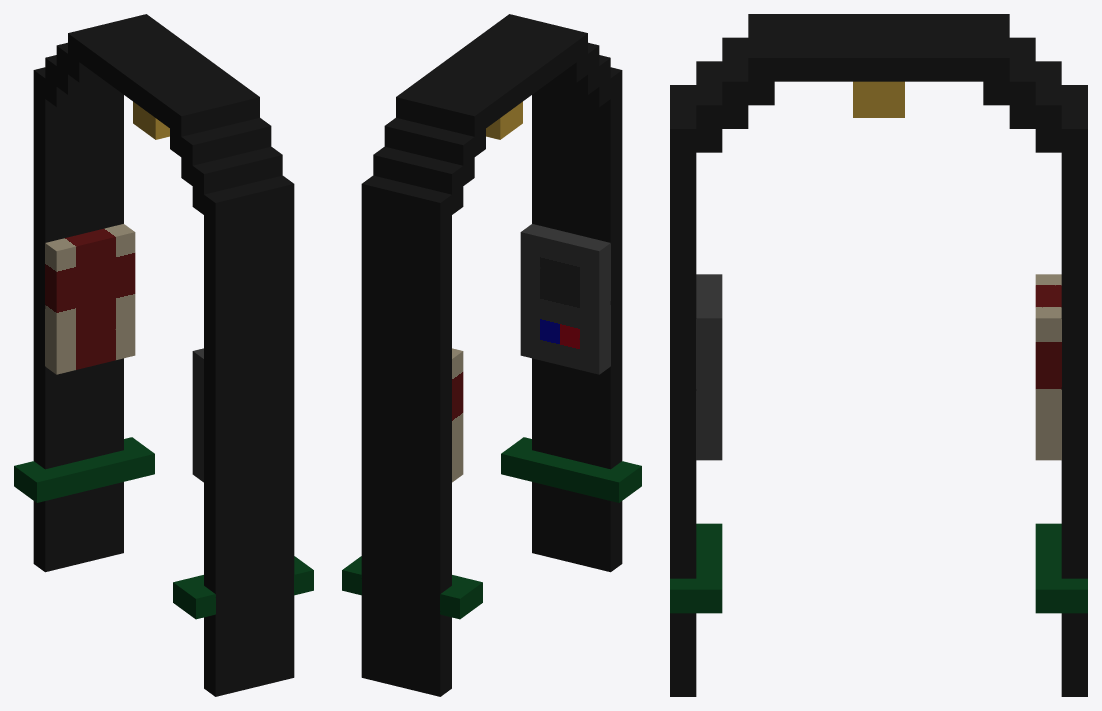
The model's file is ArchGreen.fbx.
3 renders of one model, left to right at view 1: azimuth 30°, elevation 25°; view 2: azimuth 150°, elevation 25°; view 3: azimuth 270°, elevation 25°, orthographic. The views are drawn at different scales.
Parts seen in each view (by area): view 1: Matrix; view 2: Matrix; view 3: Matrix.
Part boxes in pixels (bbox=[...]): Matrix: bbox=[14, 14, 313, 696]; Matrix: bbox=[342, 14, 641, 696]; Matrix: bbox=[670, 14, 1087, 696].
Bounding box in the file's own units: 6 × 27 × 16.
